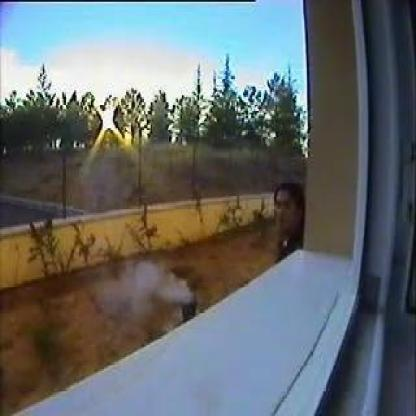-: (116, 262, 194, 307)
